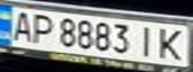3: (109, 21, 136, 55)
8: (90, 19, 115, 53), (72, 17, 96, 51), (54, 16, 78, 48)
A: (6, 8, 36, 43)
I: (133, 24, 160, 58)
K: (154, 26, 190, 62)
P: (27, 11, 57, 44)
